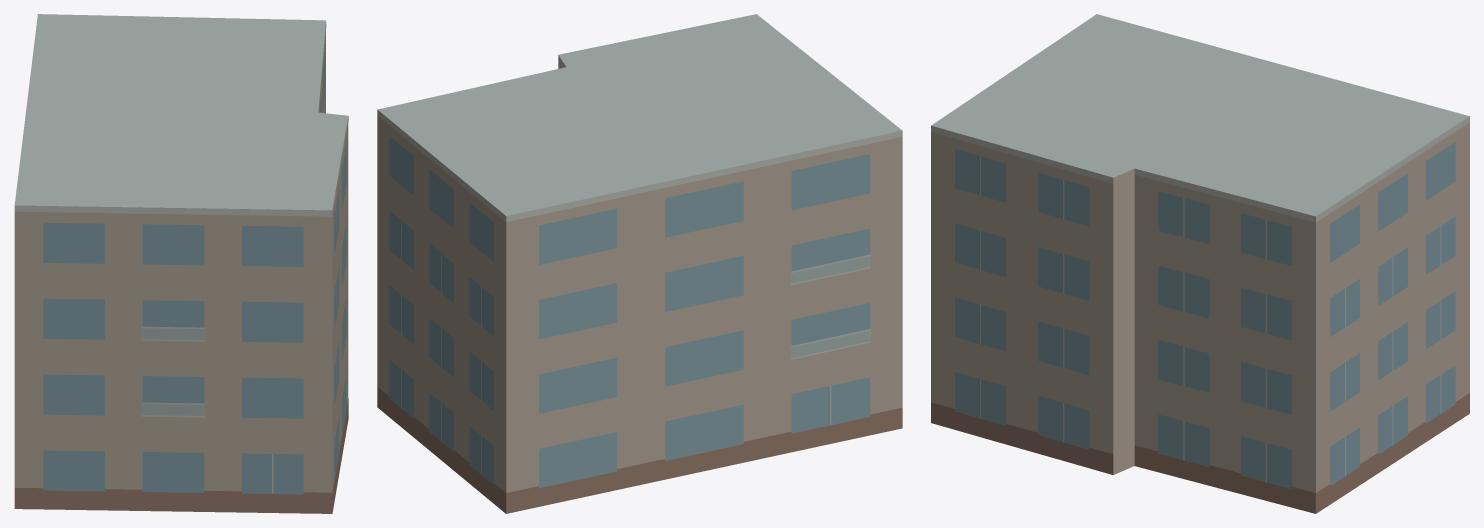
File: survey-upis-32544614.glb
3 views of the same model, side by side, from view 1: azimuth 30°, elevation 25°; view 2: azimuth 150°, elevation 25°; view 3: azimuth 270°, elevation 25° (orthographic). The views are drawn at different scales.
Parts seen in each view (by area): view 1: survey-upis-32544614.tmp; view 2: survey-upis-32544614.tmp; view 3: survey-upis-32544614.tmp.
Part boxes in pixels (x1,y1,x2,y2): survey-upis-32544614.tmp: [14, 14, 348, 513]; survey-upis-32544614.tmp: [377, 14, 902, 513]; survey-upis-32544614.tmp: [931, 14, 1469, 513].
Size of the model in its own units: 17.31 by 11.85 by 19.46.
